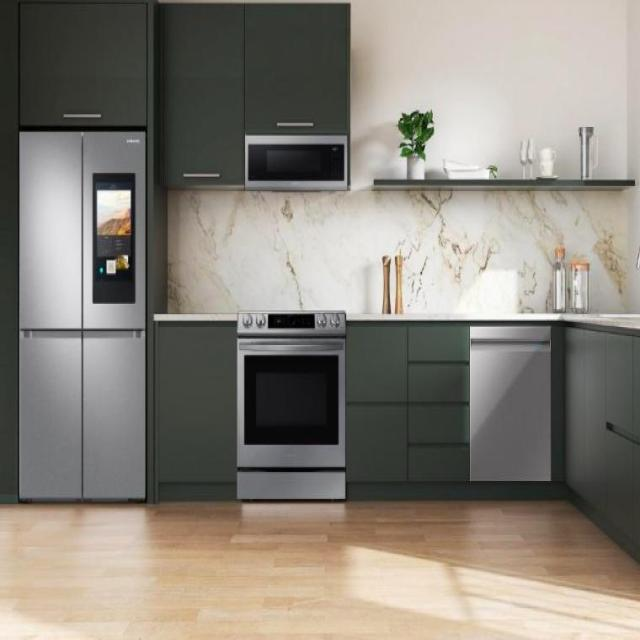dishwasher: (469, 323, 549, 482)
